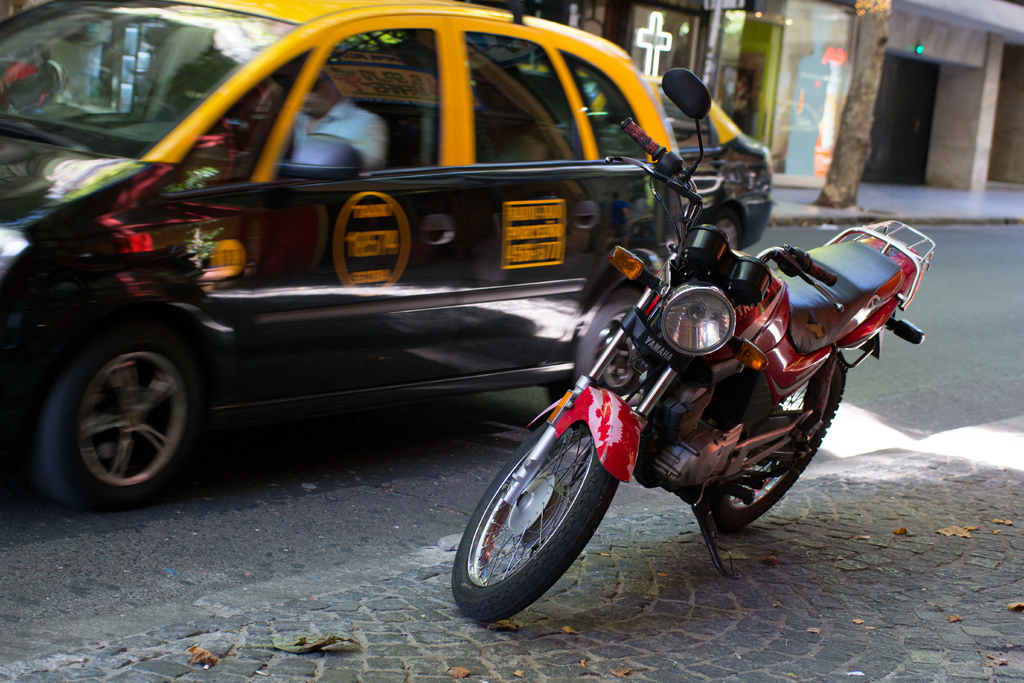motor: (432, 181, 927, 650)
